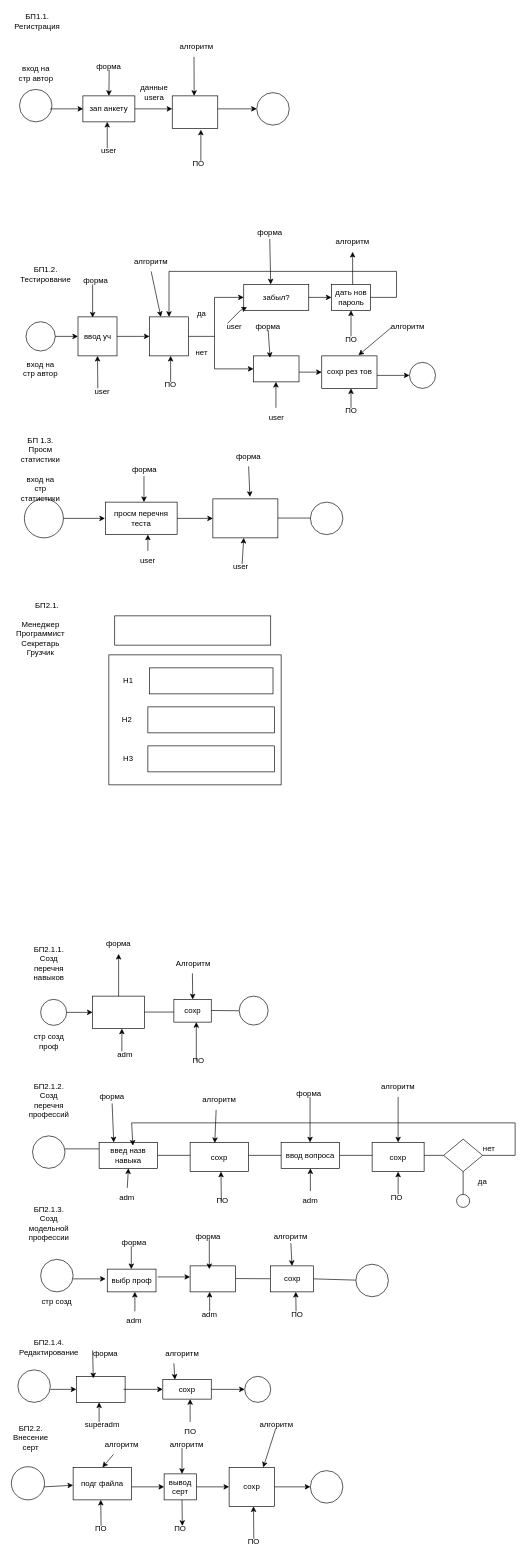
The diagram is 527 pixels wide and 1563 high, and some of its shapes have lost their labels. The centre of each missing label's shape, as x and y in pixels:
выбор назв проф: pixel 118 1012
зап баллы навыка: pixel 212 1278
получ серт: pixel 245 518
пров уч: pixel 168 336
Программа: pixel 192 630
ред: pixel 100 1389
созд уч: pixel 195 111
тесты: pixel 276 368
